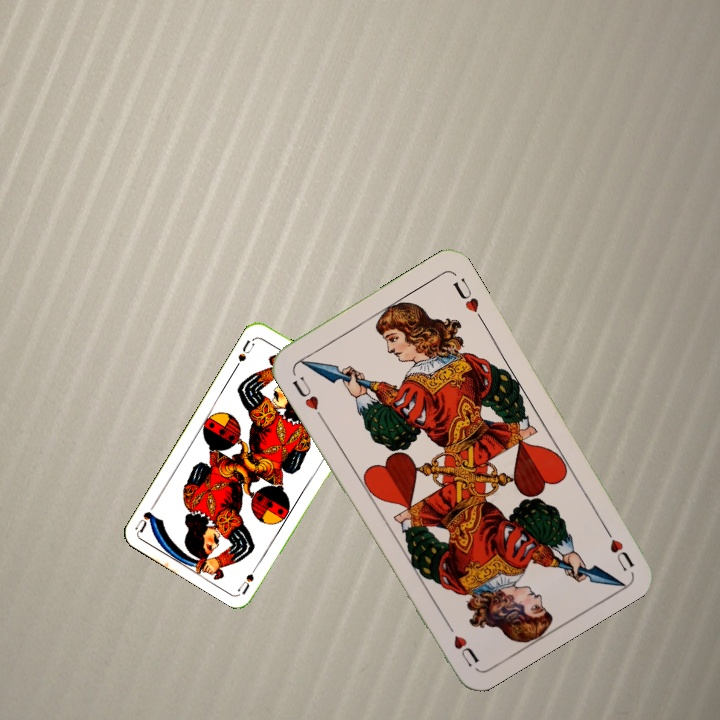HU: (598, 520, 637, 574), (288, 372, 322, 413)
SU: (234, 558, 263, 596), (231, 334, 258, 371)
